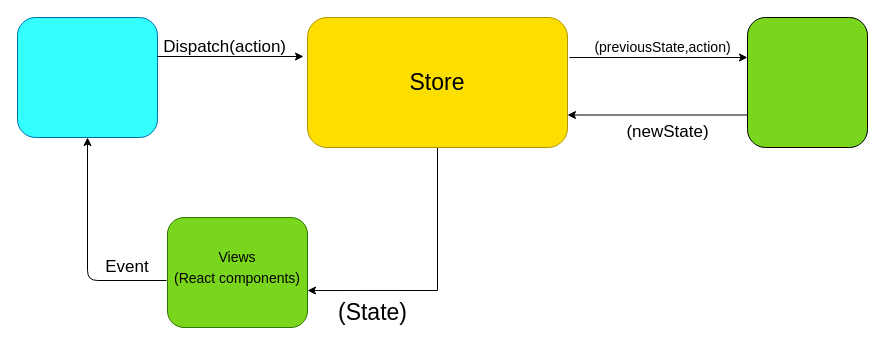
The diagram is 885 pixels wide and 345 high, and some of its shapes have lost their labels. Each missing label, with the centre of its shape:
"Actions Creators" belongs at (87,77).
"Reducers" belongs at (807,82).
